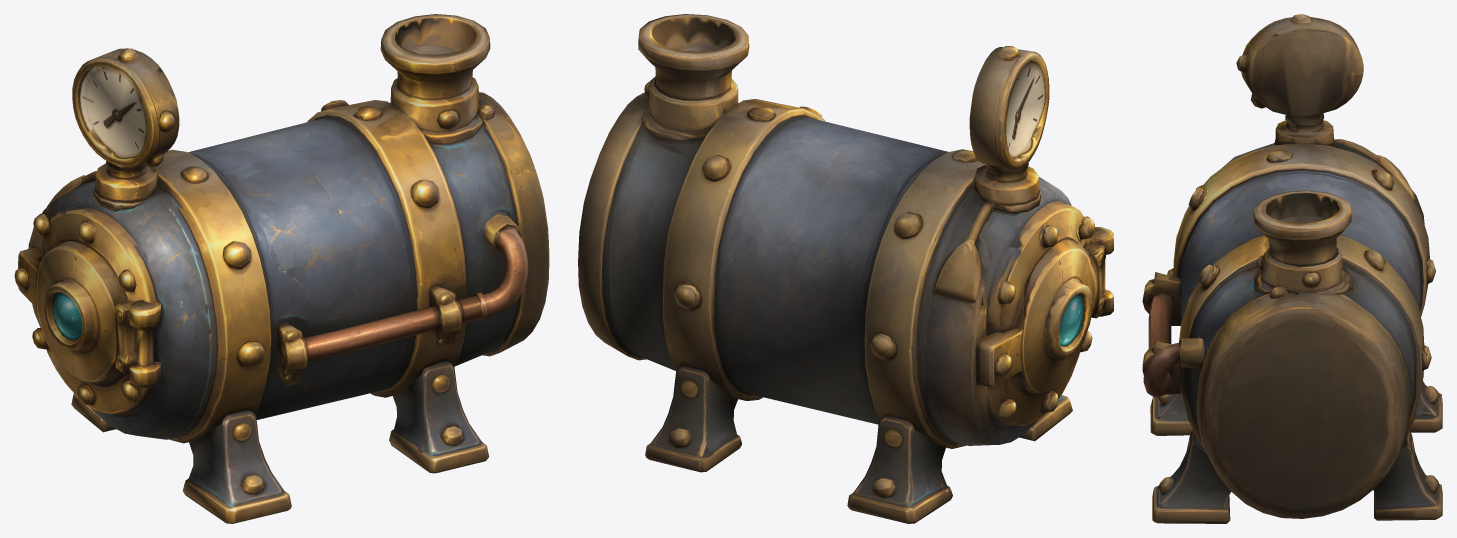
Rendered from steampunk_engine.glb.
3 renders of one model, left to right at view 1: azimuth 30°, elevation 25°; view 2: azimuth 150°, elevation 25°; view 3: azimuth 270°, elevation 25°, orthographic. The views are drawn at different scales.
Visible parts, largest first — view 1: tripo_node_1bbb390b-e3f1-4a9b-8bc6-bffc80ae6e51; view 2: tripo_node_1bbb390b-e3f1-4a9b-8bc6-bffc80ae6e51; view 3: tripo_node_1bbb390b-e3f1-4a9b-8bc6-bffc80ae6e51.
Boxes of the visible parts, x1,y1,x2,y2 form: tripo_node_1bbb390b-e3f1-4a9b-8bc6-bffc80ae6e51: (14,14,549,523); tripo_node_1bbb390b-e3f1-4a9b-8bc6-bffc80ae6e51: (578,14,1113,523); tripo_node_1bbb390b-e3f1-4a9b-8bc6-bffc80ae6e51: (1142,14,1442,523).
Size of the model in its own units: 0.9995 by 0.9116 by 0.644.
Materials: 1 (1 with a texture image).
